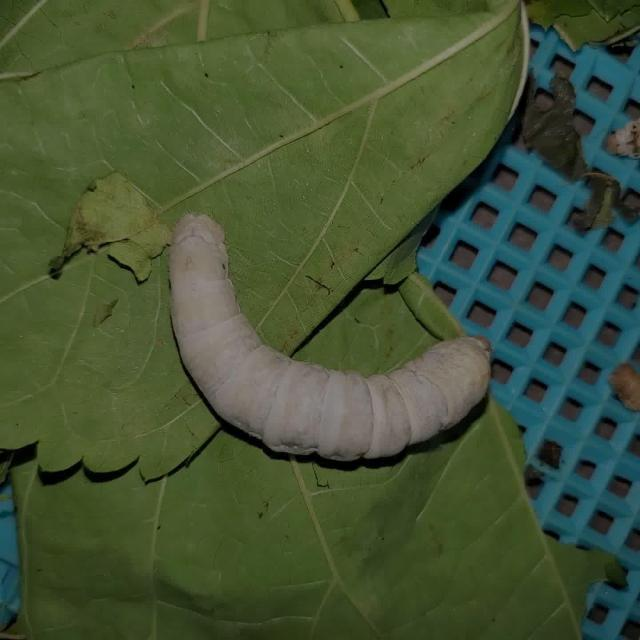Grasserie: (144, 184, 552, 521)
